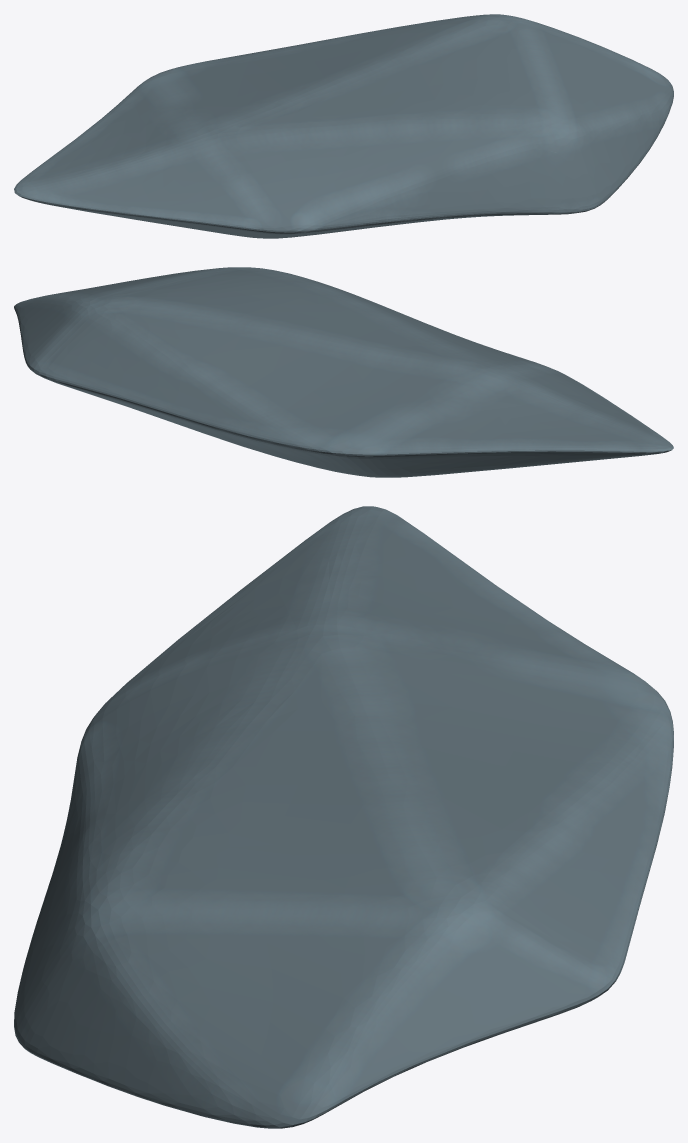
The model's file is MineableRock_size1.fbx.
The picture shows the model from 3 angles, top to bottom: view 1: azimuth 30°, elevation 25°; view 2: azimuth 150°, elevation 25°; view 3: azimuth 270°, elevation 25°; orthographic projection. The views are drawn at different scales.
Visible parts, largest first — view 1: MineableRock_size1; view 2: MineableRock_size1; view 3: MineableRock_size1.
Boxes of the visible parts, x1=… form: MineableRock_size1: x1=14, y1=14, x2=673, y2=238; MineableRock_size1: x1=14, y1=267, x2=673, y2=477; MineableRock_size1: x1=14, y1=506, x2=673, y2=1128.
Bounding box in the file's own units: 98.61 × 197 × 28.65.
Materials: 1 (1 with a texture image).
